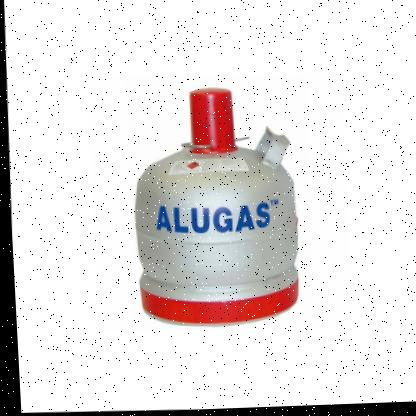gas-tank: (80, 44, 346, 356)
